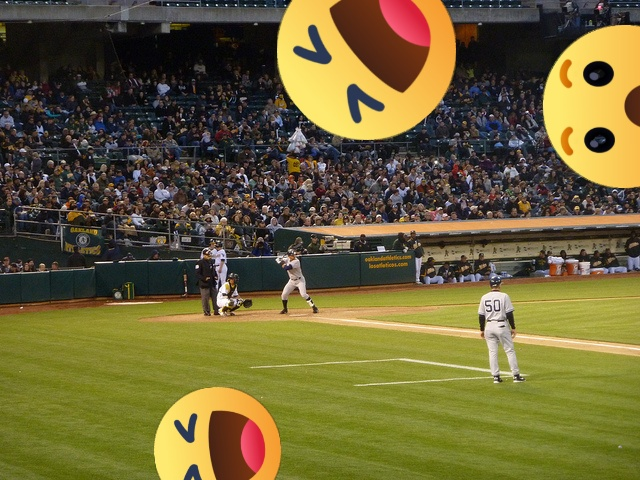haha: (277, 0, 456, 140), (154, 387, 281, 480)
wow: (543, 25, 640, 188)
